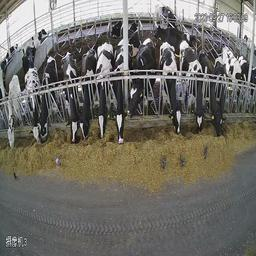cow: (124, 39, 156, 121), (158, 40, 183, 136), (180, 36, 203, 134), (60, 51, 79, 144), (79, 45, 96, 142), (40, 55, 58, 143), (201, 49, 220, 129), (96, 41, 111, 140), (113, 37, 126, 144), (23, 64, 38, 144), (222, 45, 247, 90), (6, 73, 20, 150), (153, 23, 185, 46), (20, 29, 48, 52), (127, 19, 142, 55), (22, 43, 36, 73), (111, 15, 123, 36)
